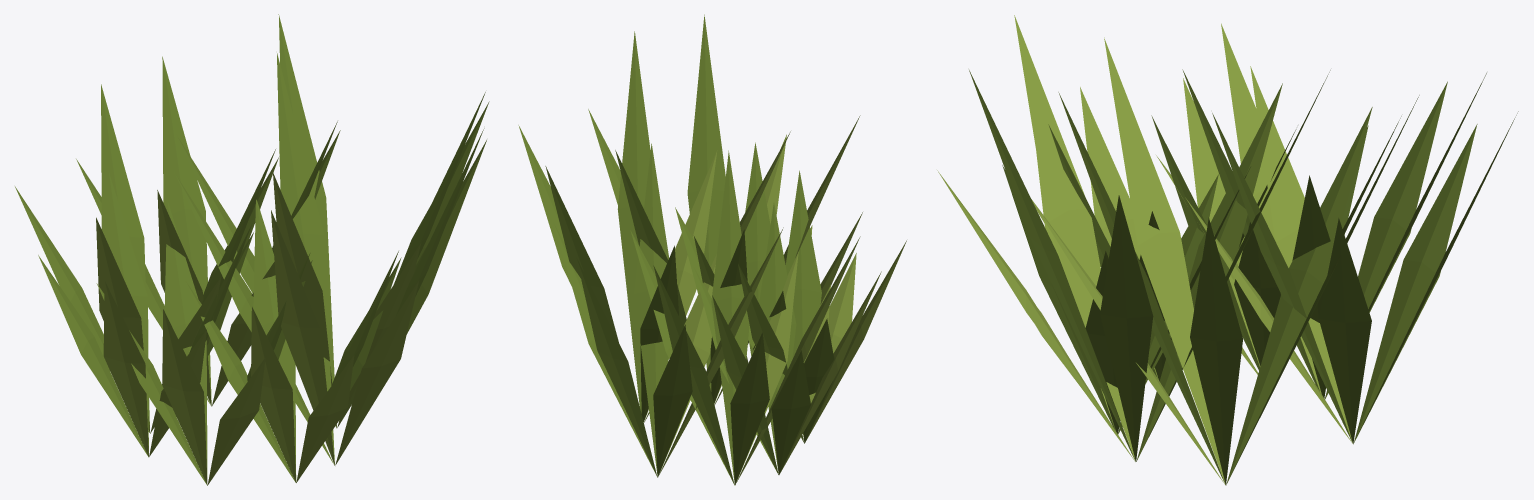
The model's file is 94_tall_meadow_grass.fbx.
3 renders of one model, left to right at view 1: azimuth 30°, elevation 25°; view 2: azimuth 150°, elevation 25°; view 3: azimuth 270°, elevation 25°, orthographic. The views are drawn at different scales.
Parts seen in each view (by area): view 1: 94_tall_meadow_grass; view 2: 94_tall_meadow_grass; view 3: 94_tall_meadow_grass.
Part boxes in pixels (bbox=[...]): 94_tall_meadow_grass: bbox=[15, 14, 489, 485]; 94_tall_meadow_grass: bbox=[518, 14, 906, 485]; 94_tall_meadow_grass: bbox=[937, 15, 1518, 485].
Bounding box in the file's own units: 0.9108 × 0.819 × 0.9816.
Materials: 1 (1 with a texture image).
